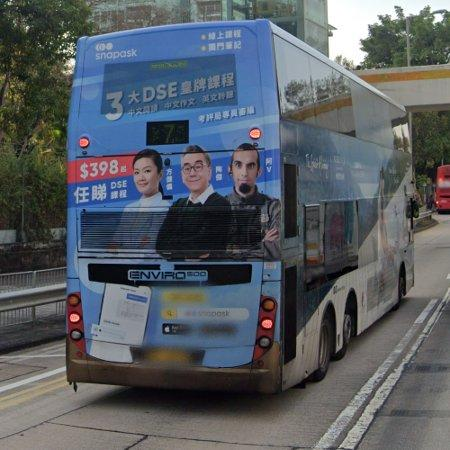buses: (67, 20, 415, 394)
